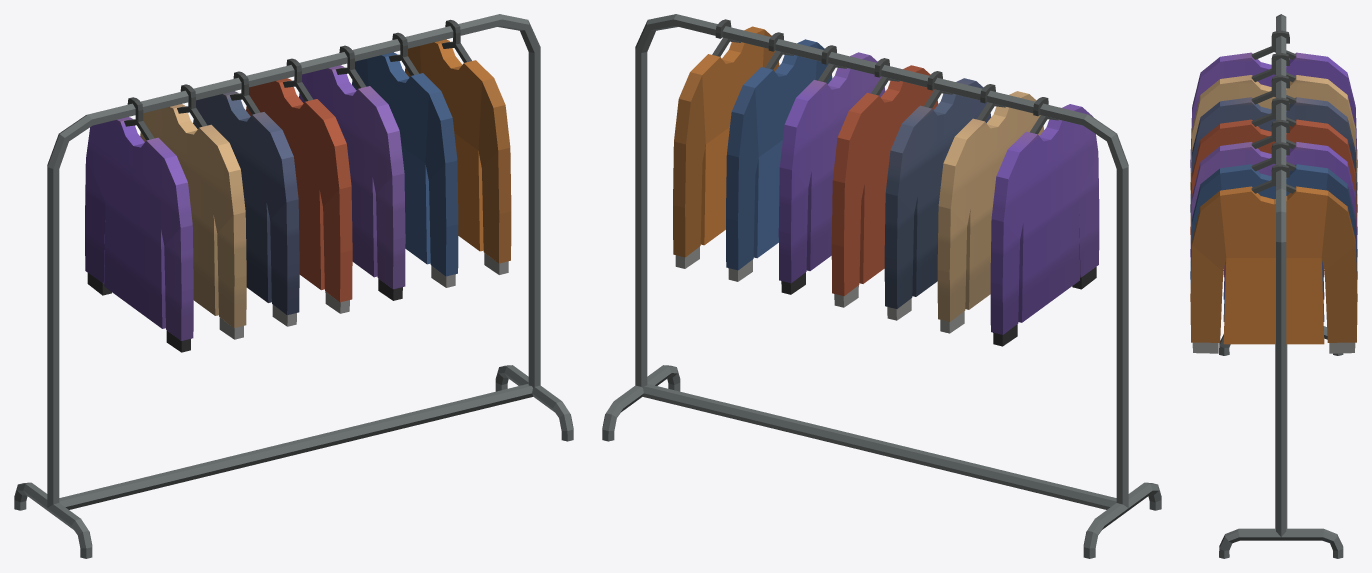
The model's file is SM_Props_Interior_Shop_Clothes_DisplayStand_Jacket.fbx.
3 views of the same model, side by side, from view 1: azimuth 30°, elevation 25°; view 2: azimuth 150°, elevation 25°; view 3: azimuth 270°, elevation 25° (orthographic). The views are drawn at different scales.
Parts seen in each view (by area): view 1: SM_Props_Interior_Shop_Clothes_DisplayStand_Jacket; view 2: SM_Props_Interior_Shop_Clothes_DisplayStand_Jacket; view 3: SM_Props_Interior_Shop_Clothes_DisplayStand_Jacket.
Boxes of the visible parts, <box> form: SM_Props_Interior_Shop_Clothes_DisplayStand_Jacket: <box>14,14,573,558</box>; SM_Props_Interior_Shop_Clothes_DisplayStand_Jacket: <box>602,14,1161,558</box>; SM_Props_Interior_Shop_Clothes_DisplayStand_Jacket: <box>1190,14,1357,558</box>.
Size of the model in its own units: 205 by 164 by 69.61.
